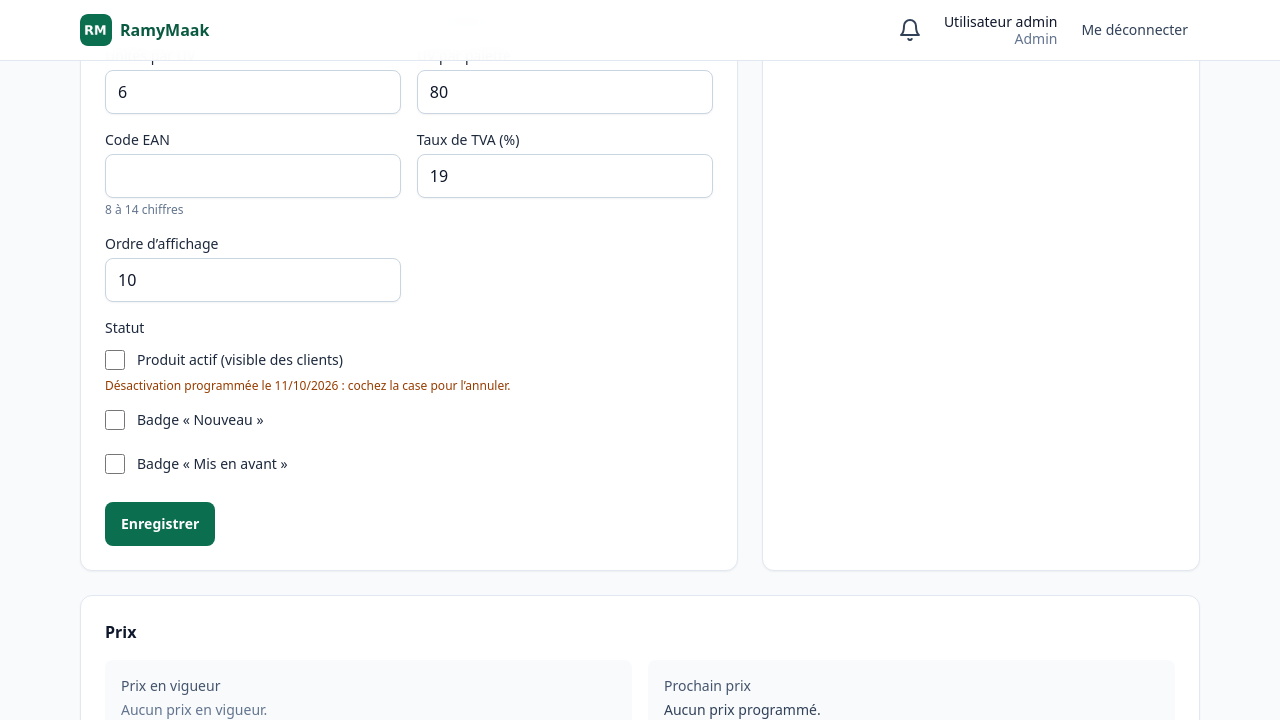
Test case: back-office — scheduled product deactivation (RG-Q07) › cancels a scheduled deactivation when the product is ticked active again
(page scrolled)
Click the checkbox labelled "Produit actif (visible des clients)".
click(115, 360)  # box [105,350,125,370]
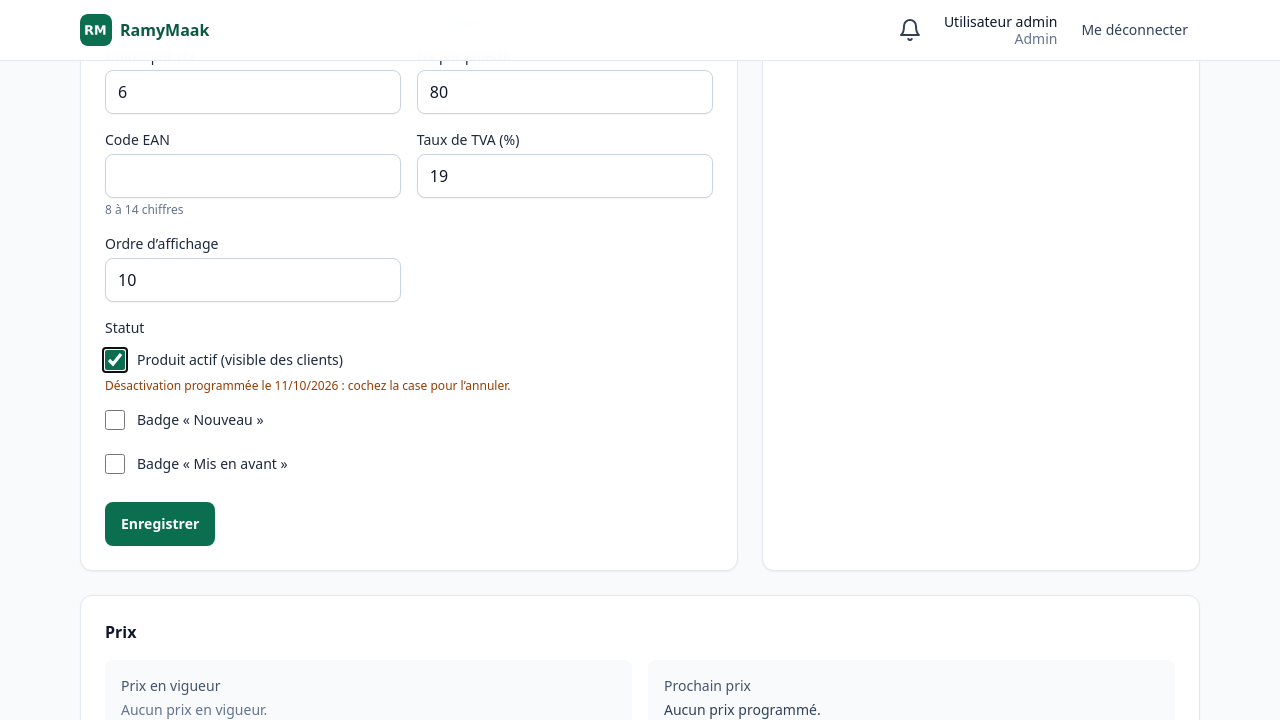
Click the button "Enregistrer".
click(160, 524)  # box [105,502,215,546]
(page scrolled)
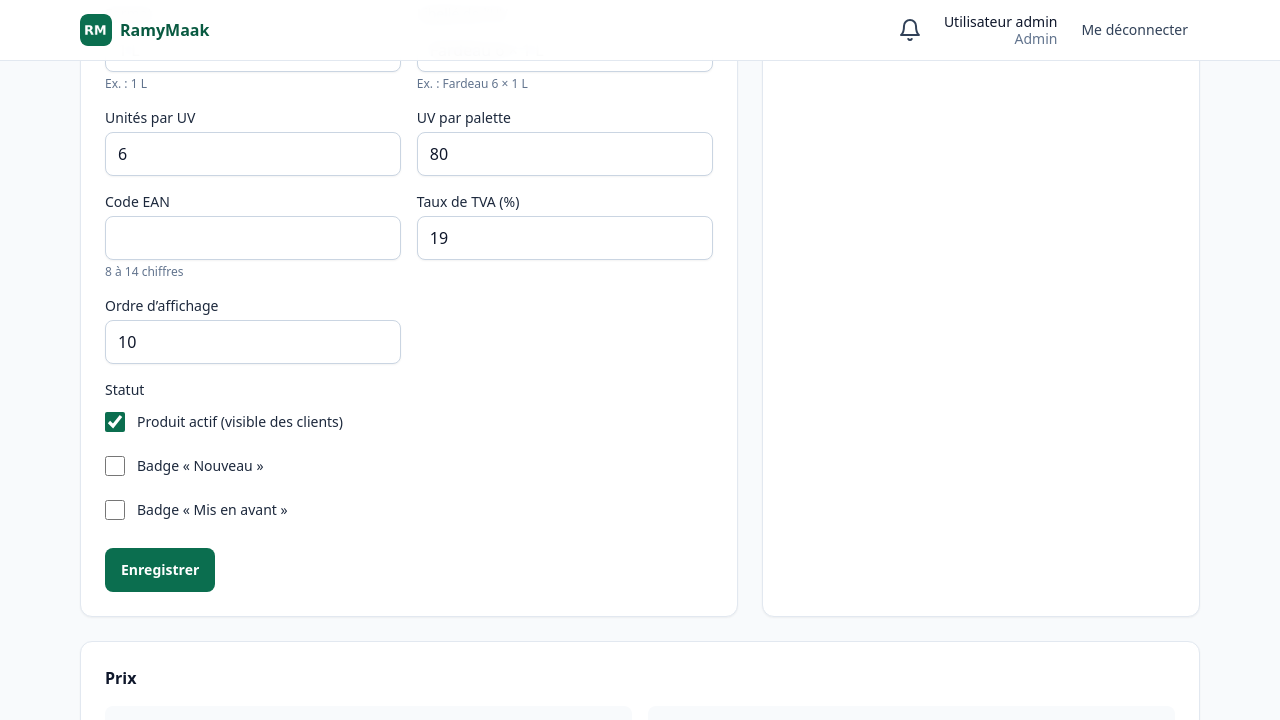
Expected: the checkbox labelled "Produit actif (visible des clients)" is checked, [105,412,125,432]
Expected: the text "Désactivation programmée" is gone
